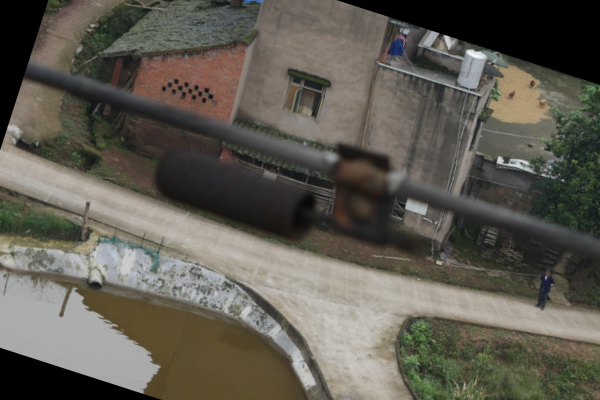damper_defect: (151, 128, 443, 259)
